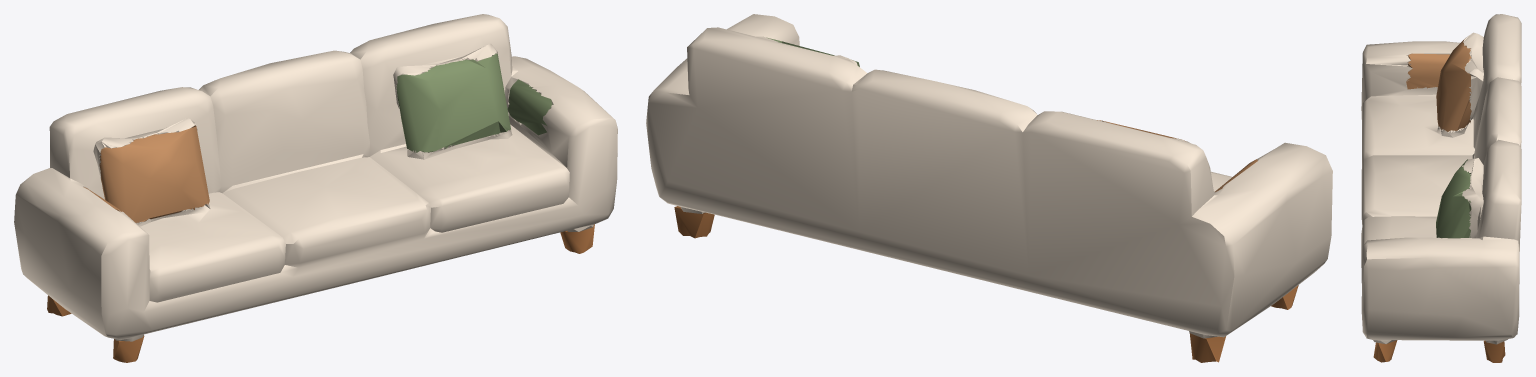
The model's file is sofa.glb.
The picture shows the model from 3 angles, left to right: view 1: azimuth 30°, elevation 25°; view 2: azimuth 150°, elevation 25°; view 3: azimuth 270°, elevation 25°; orthographic projection. The views are drawn at different scales.
Parts seen in each view (by area): view 1: sofa_fabric, sofa_pillow, sofa_pillow.001, sofa_wood; view 2: sofa_fabric, sofa_wood; view 3: sofa_fabric, sofa_pillow.001, sofa_pillow, sofa_wood.
Part boxes in pixels (x1,y1,x2,y2): sofa_fabric: (14,14,617,341); sofa_pillow: (396,53,552,152); sofa_pillow.001: (83,125,209,222); sofa_wood: (47,224,594,362); sofa_fabric: (646,14,1332,338); sofa_wood: (674,206,1298,362); sofa_fabric: (1361,14,1521,344); sofa_pillow.001: (1406,39,1471,131); sofa_pillow: (1436,159,1471,238); sofa_wood: (1373,340,1505,362).
Bounding box in the file's own units: 2.9 × 1.01 × 0.9004.
